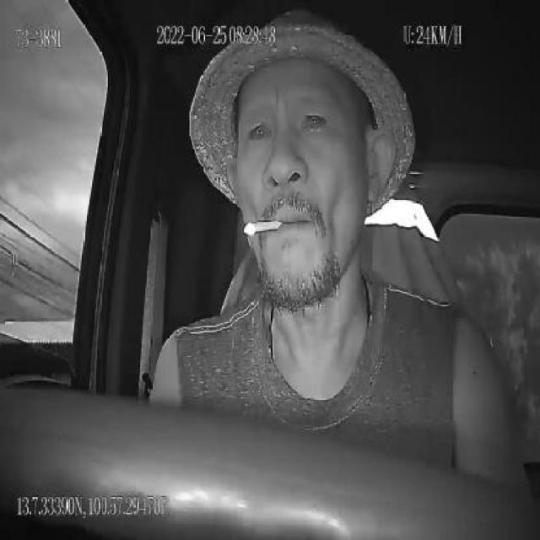smoking: (240, 217, 285, 236)
